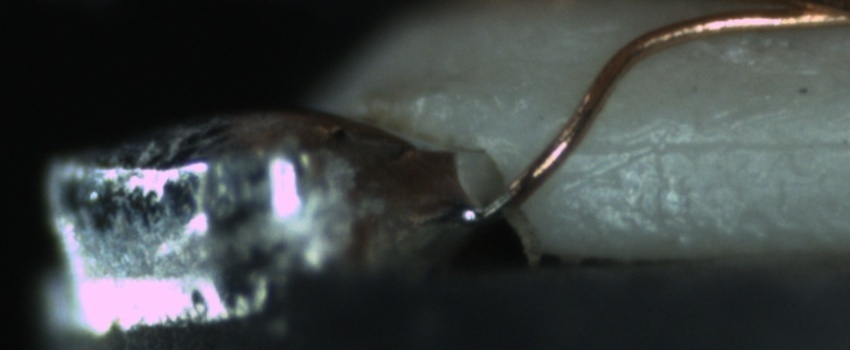DL: (569, 108, 844, 182)
